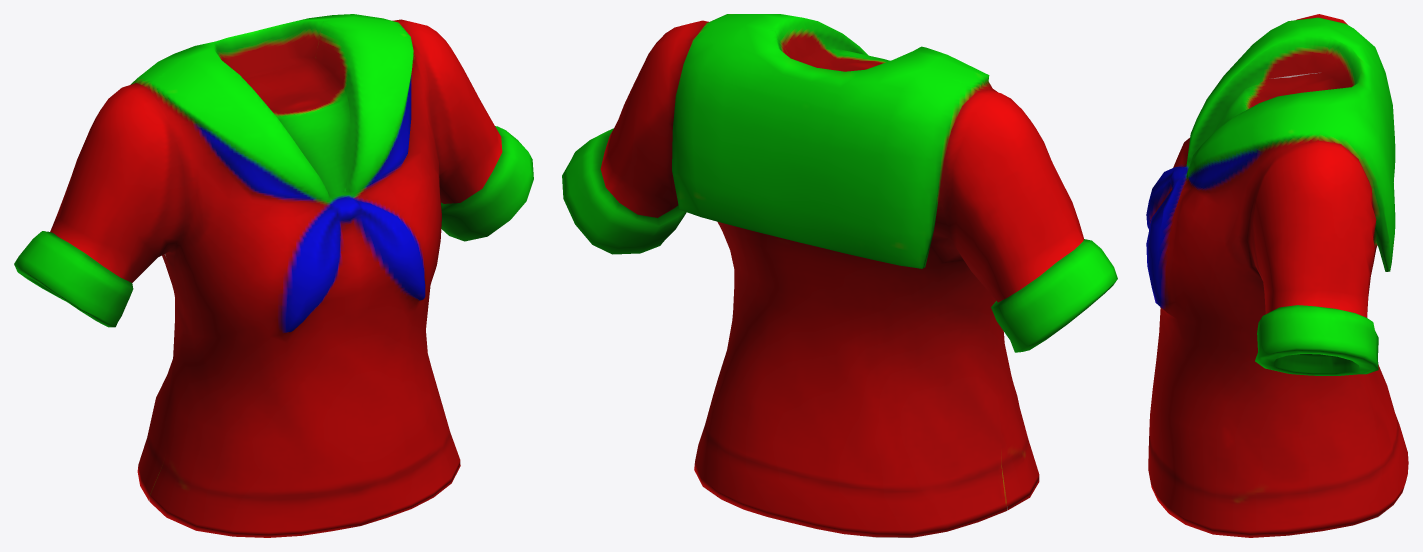
The model's file is Top_SeifukuShort.obj.
3 views of the same model, side by side, from view 1: azimuth 30°, elevation 25°; view 2: azimuth 150°, elevation 25°; view 3: azimuth 270°, elevation 25° (orthographic). The views are drawn at different scales.
Visible parts, largest first — view 1: Top_SeifukuShort_0; view 2: Top_SeifukuShort_0; view 3: Top_SeifukuShort_0.
Boxes of the visible parts, bbox=[...] form: Top_SeifukuShort_0: bbox=[14, 14, 533, 537]; Top_SeifukuShort_0: bbox=[562, 14, 1117, 537]; Top_SeifukuShort_0: bbox=[1146, 14, 1408, 537].
Bounding box in the file's own units: 0.5744 × 0.4679 × 0.2678.
1 material, 1 textured.
